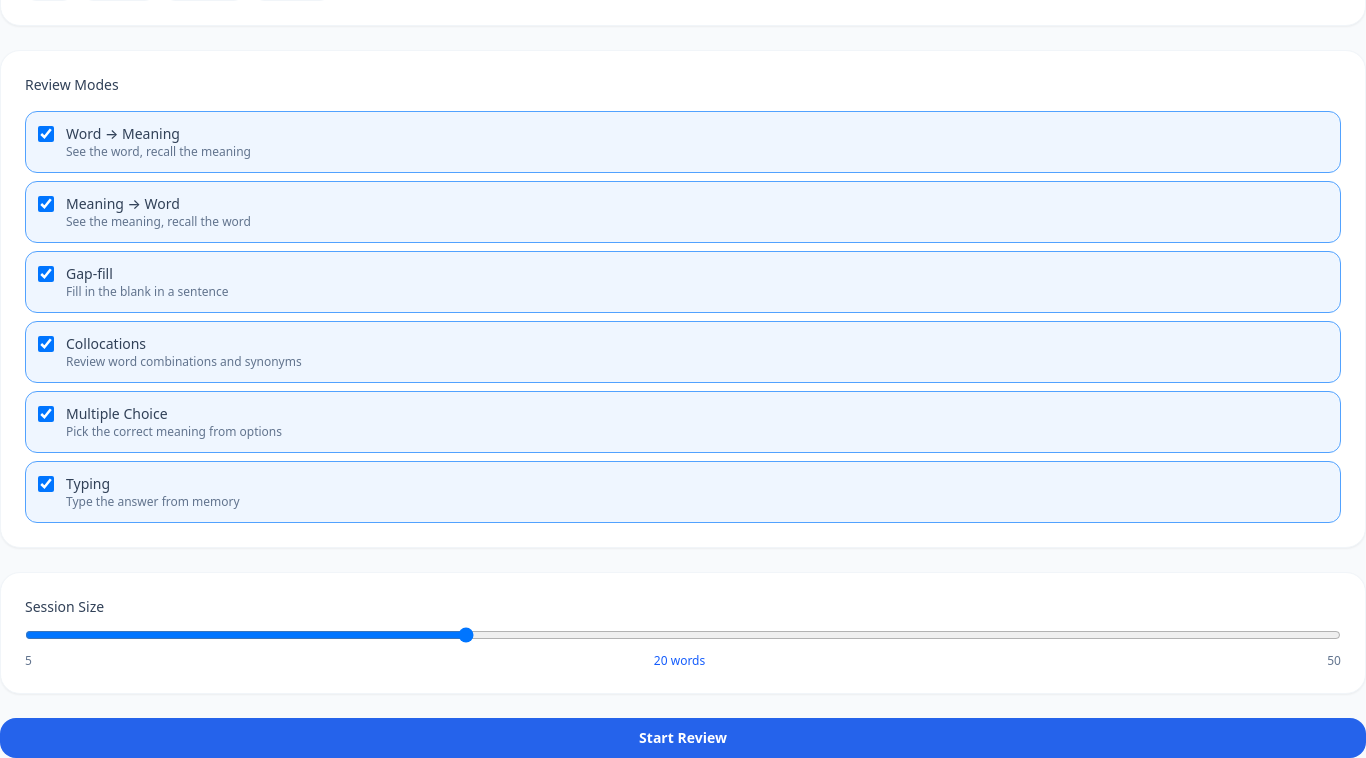
Scenario: VocabularyReview › shows review card with word in word-to-meaning mode
(page scrolled)
Click the button "Start Review".
click(683, 738)  # box [0,718,1365,757]
(page scrolled)
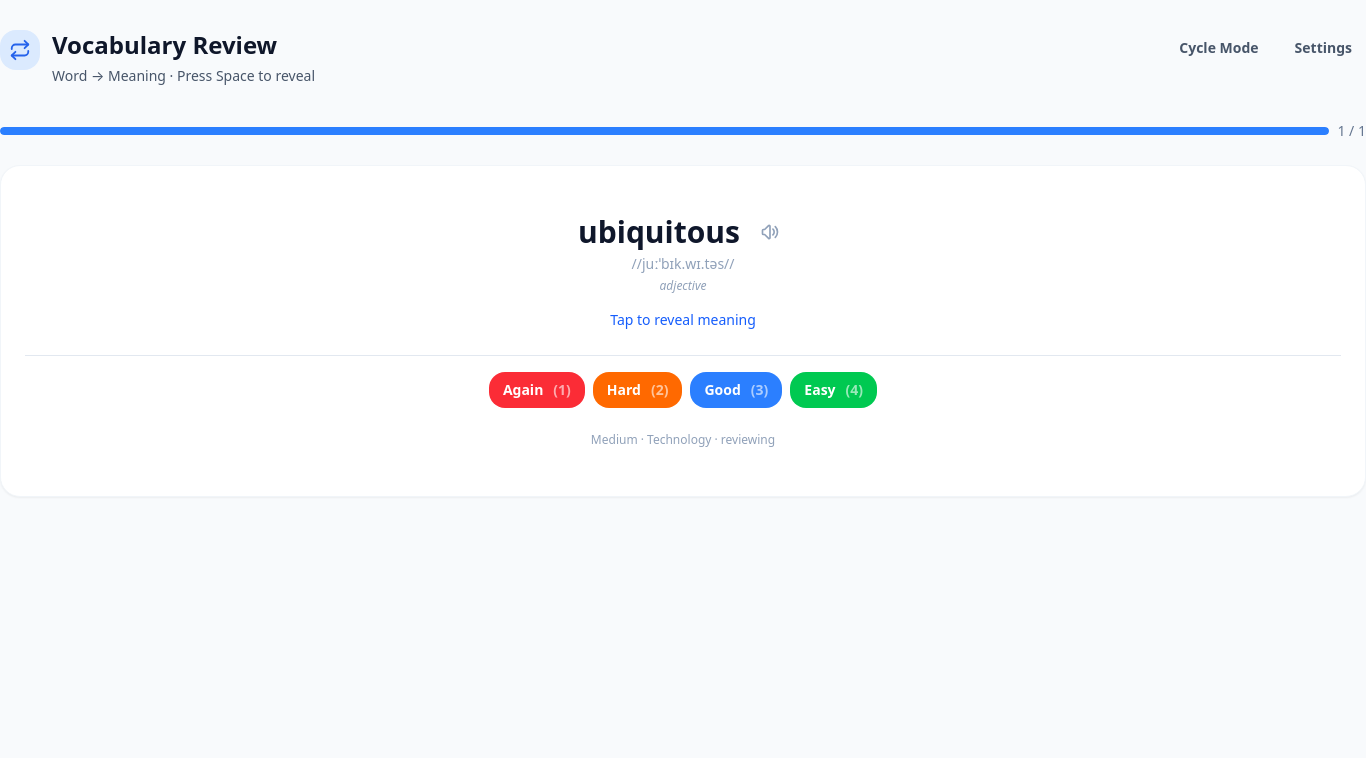
Now the element with test id "review-card" is shown, box [0,164,1365,496]
Now the text "ubiquitous" is shown, box [578,214,740,250]
